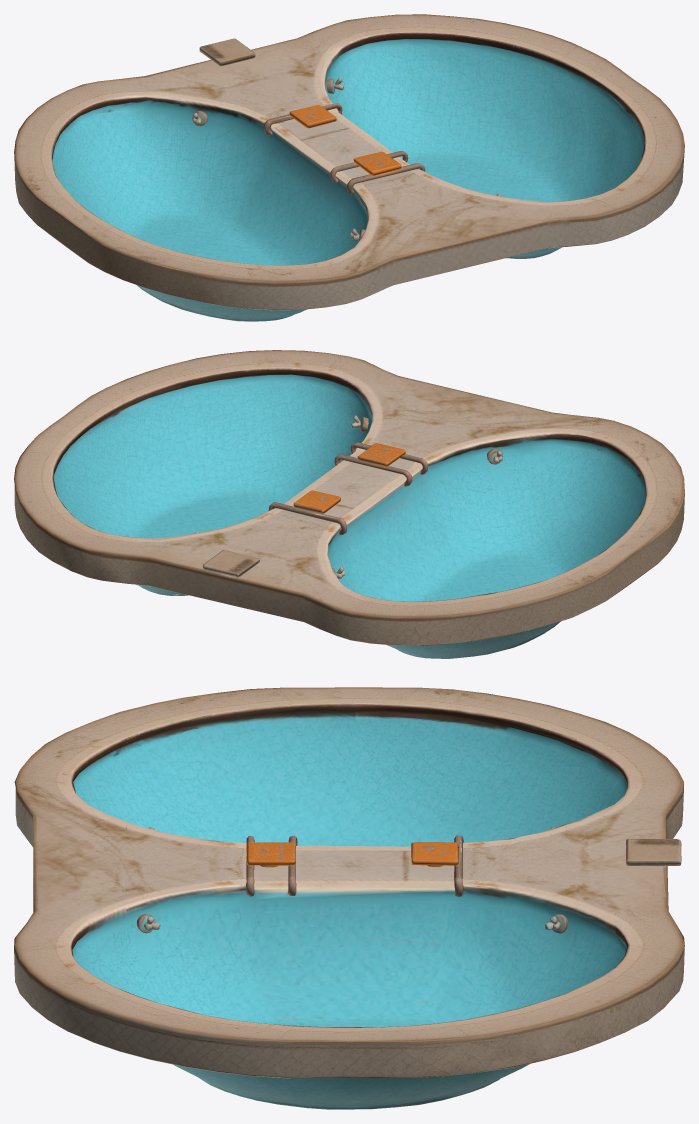
The model's file is deadwater-contest-bowl.glb.
The picture shows the model from 3 angles, top to bottom: view 1: azimuth 30°, elevation 25°; view 2: azimuth 150°, elevation 25°; view 3: azimuth 270°, elevation 25°; orthographic projection. The views are drawn at different scales.
Visible parts, largest first — view 1: deadwater-contest-bowl; view 2: deadwater-contest-bowl; view 3: deadwater-contest-bowl.
Part boxes in pixels (x1,y1,x2,y2): deadwater-contest-bowl: (14,14,684,321); deadwater-contest-bowl: (14,350,684,658); deadwater-contest-bowl: (14,687,684,1109).
Size of the model in its own units: 1 by 0.1763 by 0.8031.
1 material, 1 textured.
